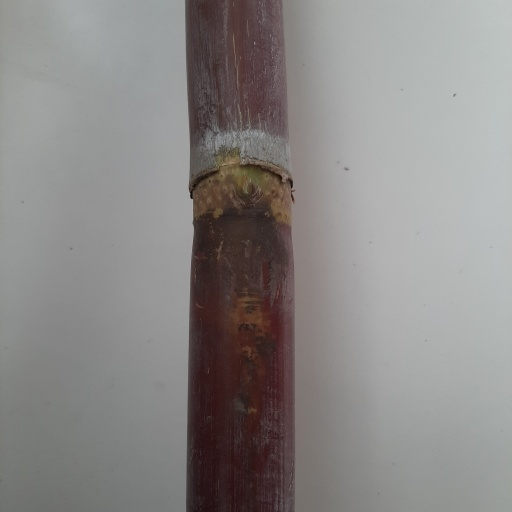Bud: (237, 171, 260, 206)
